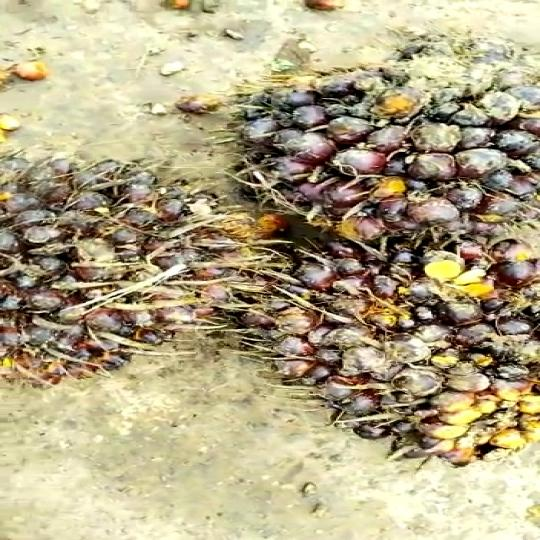kurang masak: (0, 133, 264, 421), (191, 50, 540, 259), (252, 222, 540, 475)
